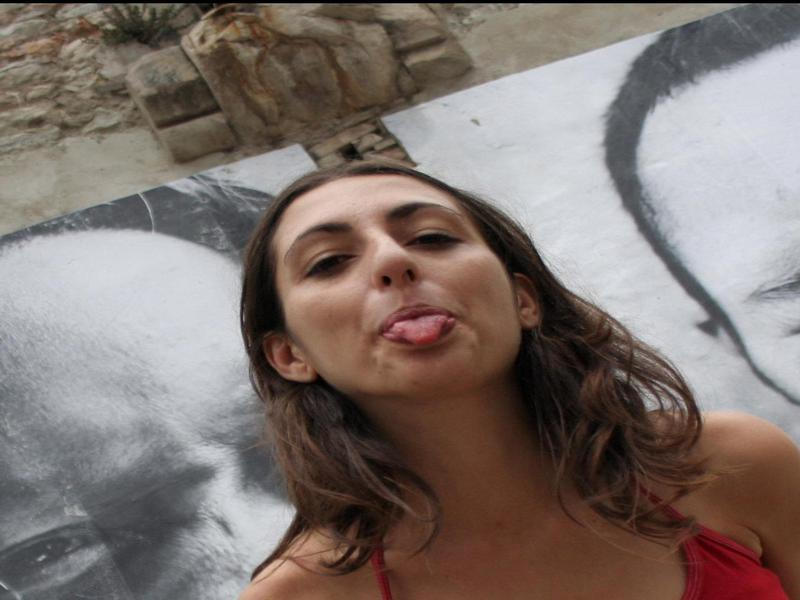person: (230, 156, 795, 600)
